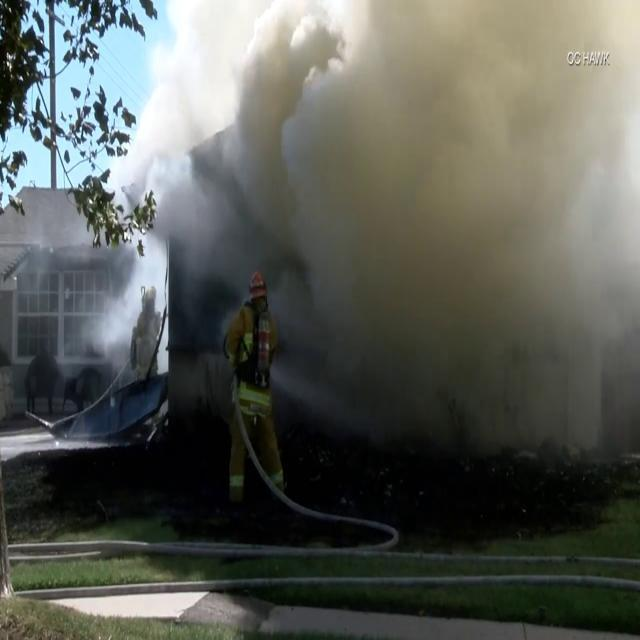Smoke: (105, 0, 640, 454)
